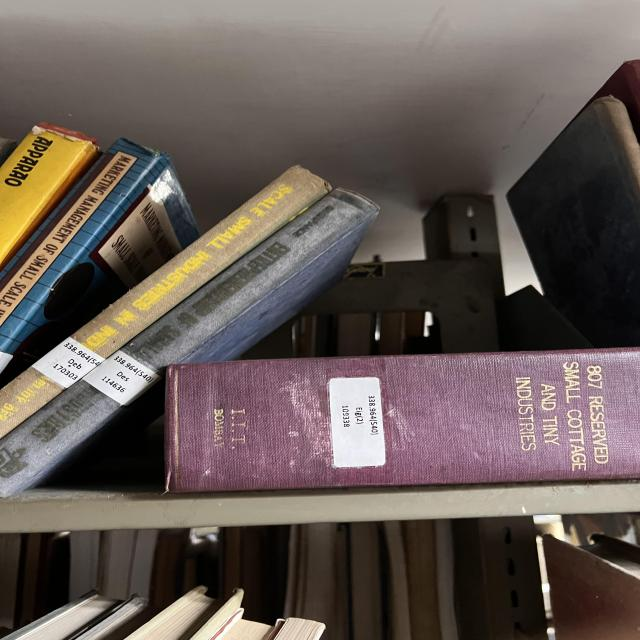Book: (0, 166, 330, 438), (167, 349, 638, 491), (122, 189, 377, 378), (0, 380, 163, 498)
Label: (328, 378, 385, 468), (83, 350, 162, 405), (32, 338, 105, 388)
